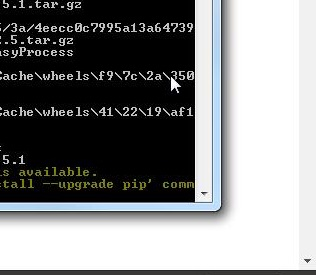cursor: (169, 74, 183, 96)
